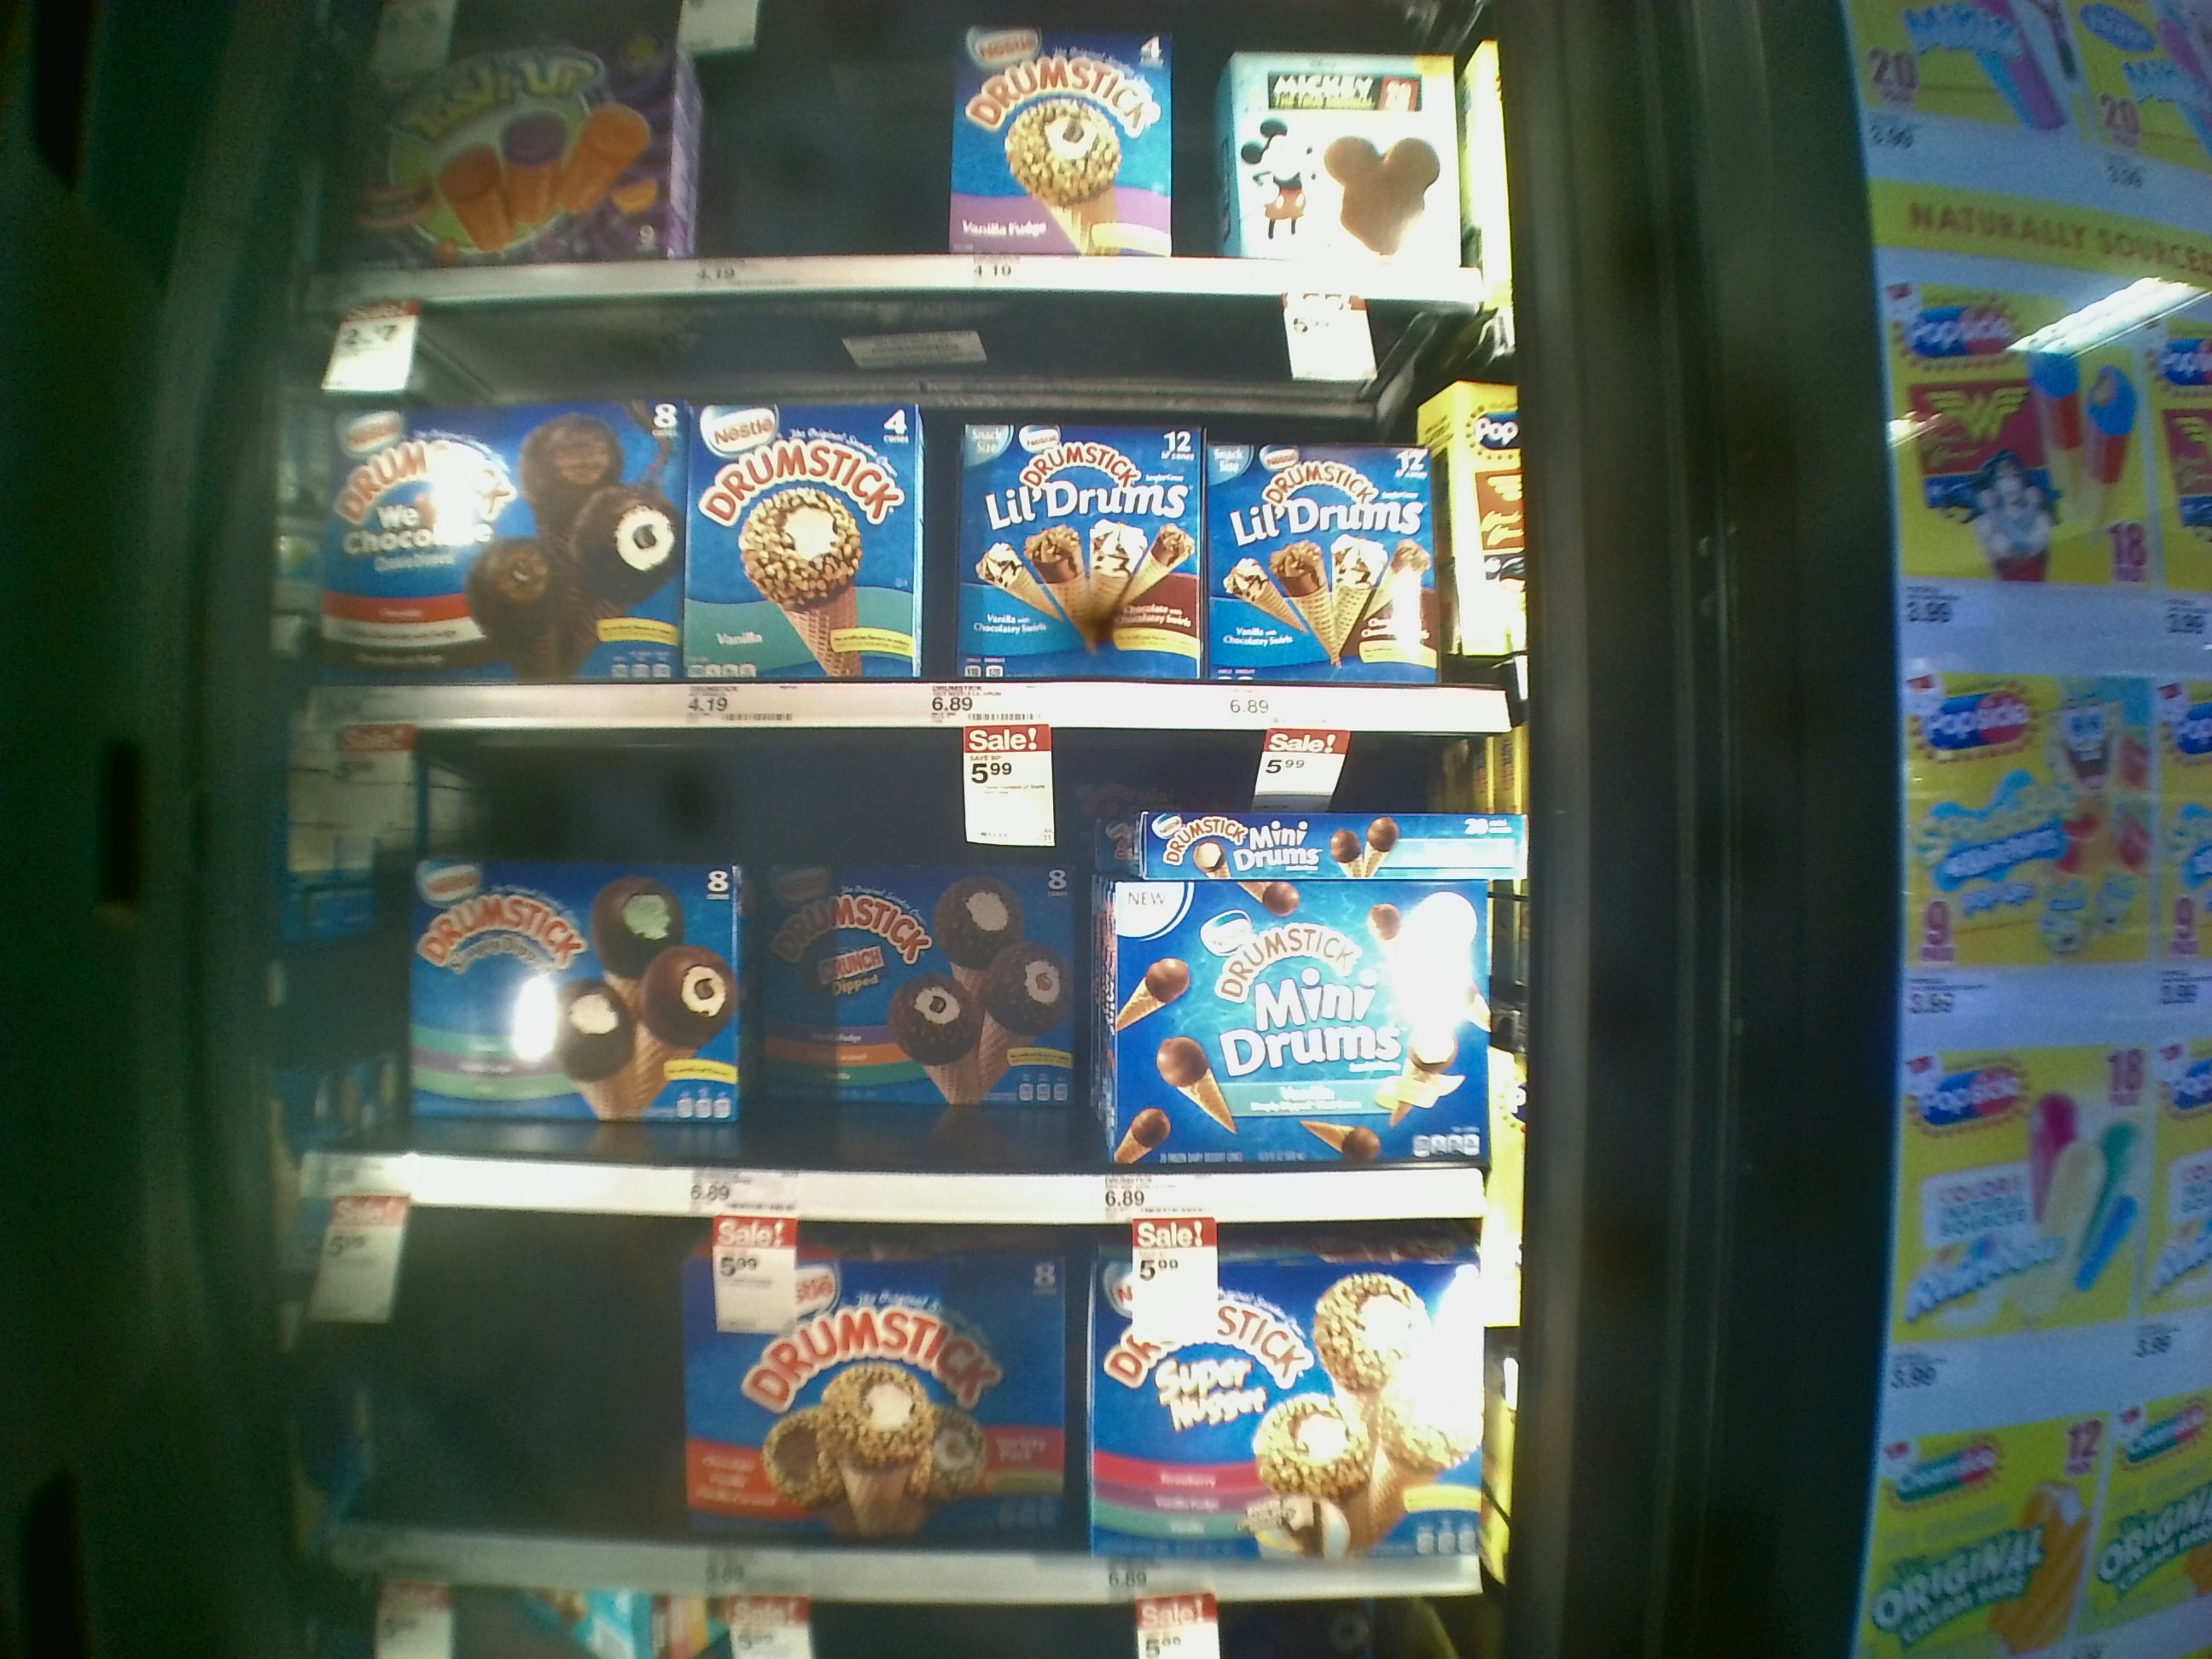shelf: (294, 739, 1514, 1220), (294, 307, 1521, 734), (296, 1213, 1526, 1601)
